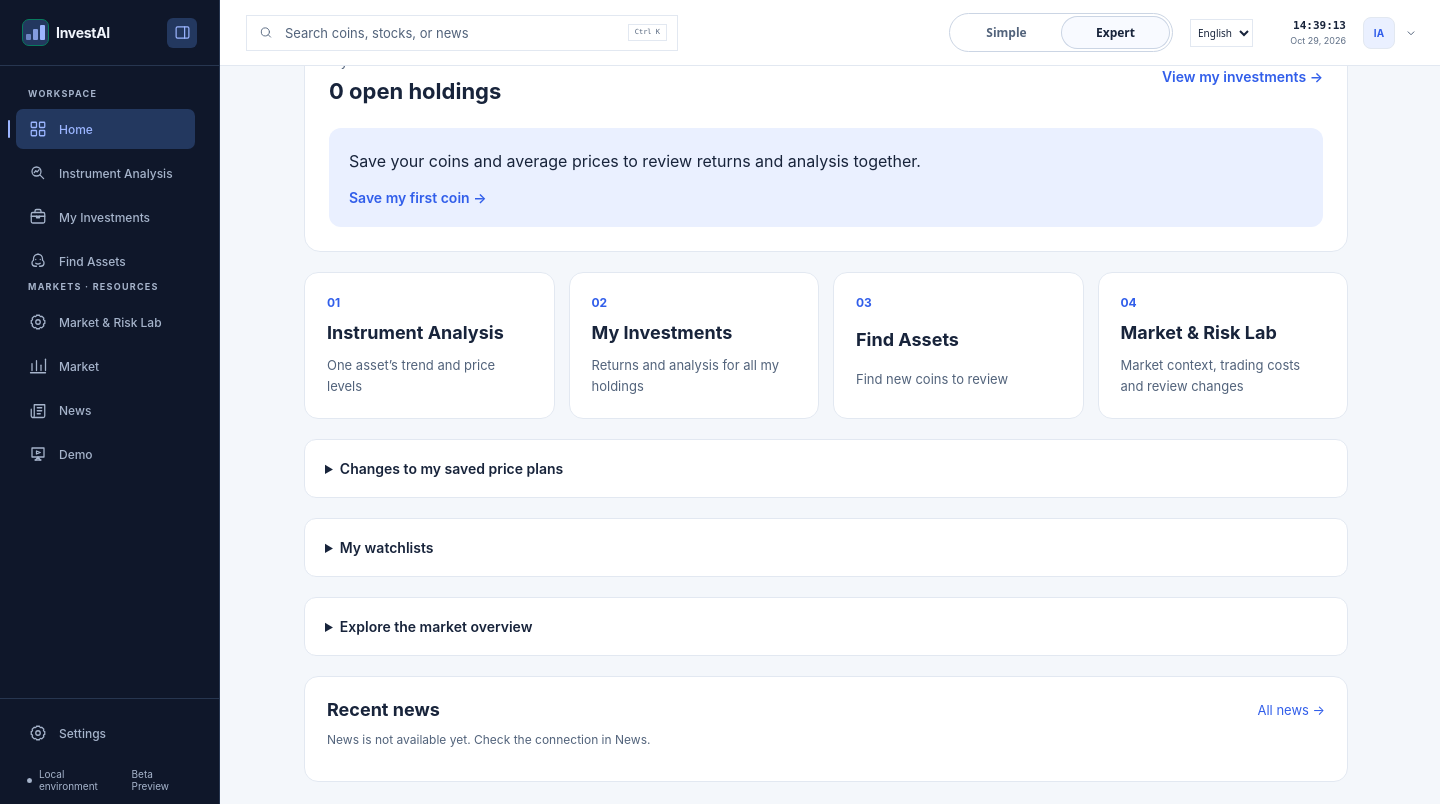
Test case: WatchlistManager drag safety › does not reorder after a cancelled internal drag or an external drop
(page scrolled)
Click the heading "My watchlists" at (387, 548), box top-left (340, 540), bottom-right (433, 556)
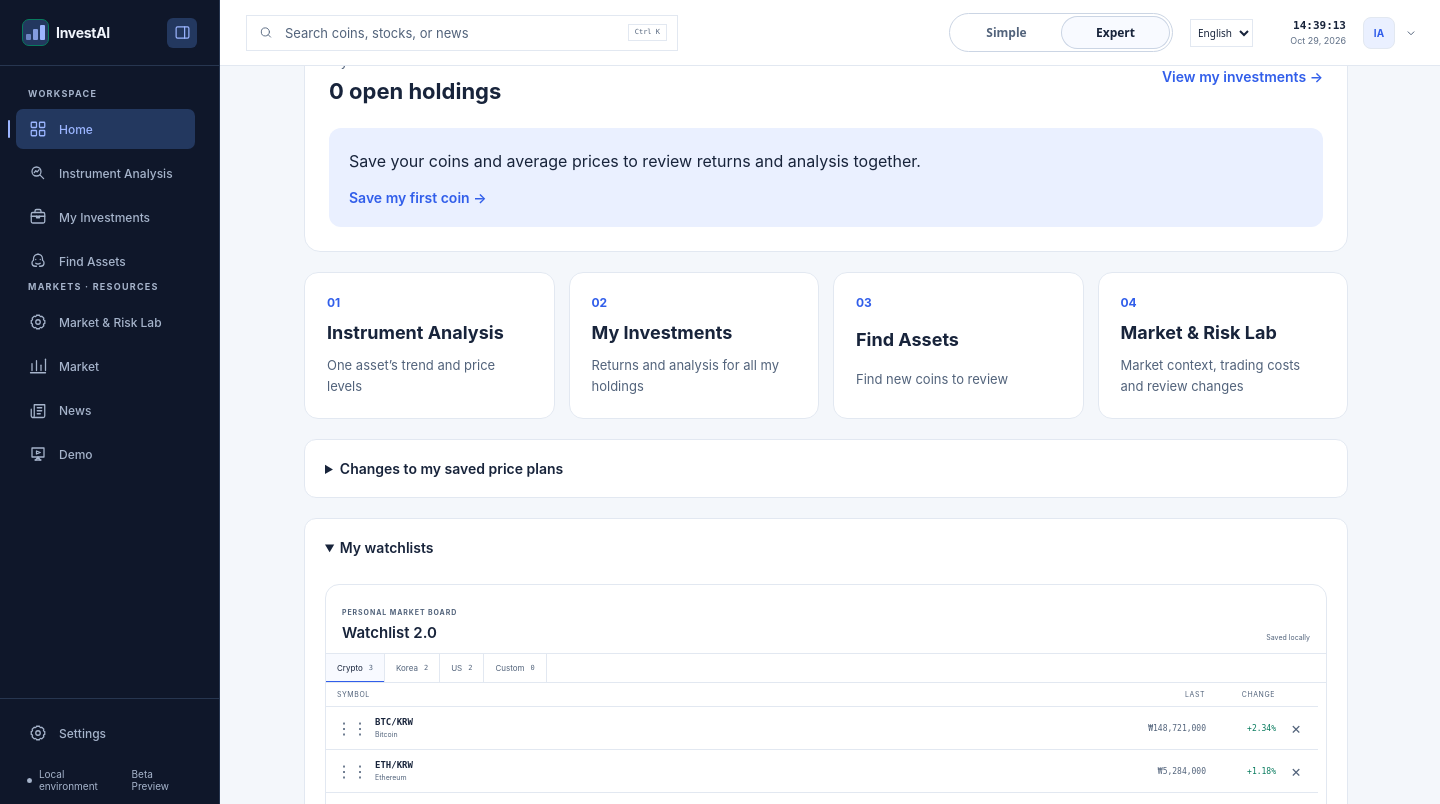
Expected: the text "BTC/KRW" is shown, top-left (336, 718), bottom-right (853, 740)
Expected: the text "ETH/KRW" is shown, top-left (336, 760), bottom-right (853, 782)
